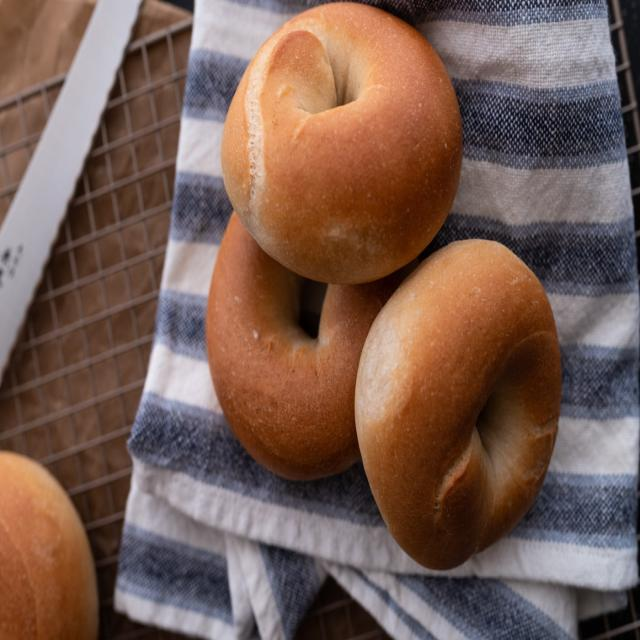Bagel: (355, 239, 561, 570), (221, 2, 462, 284), (206, 212, 404, 480)
